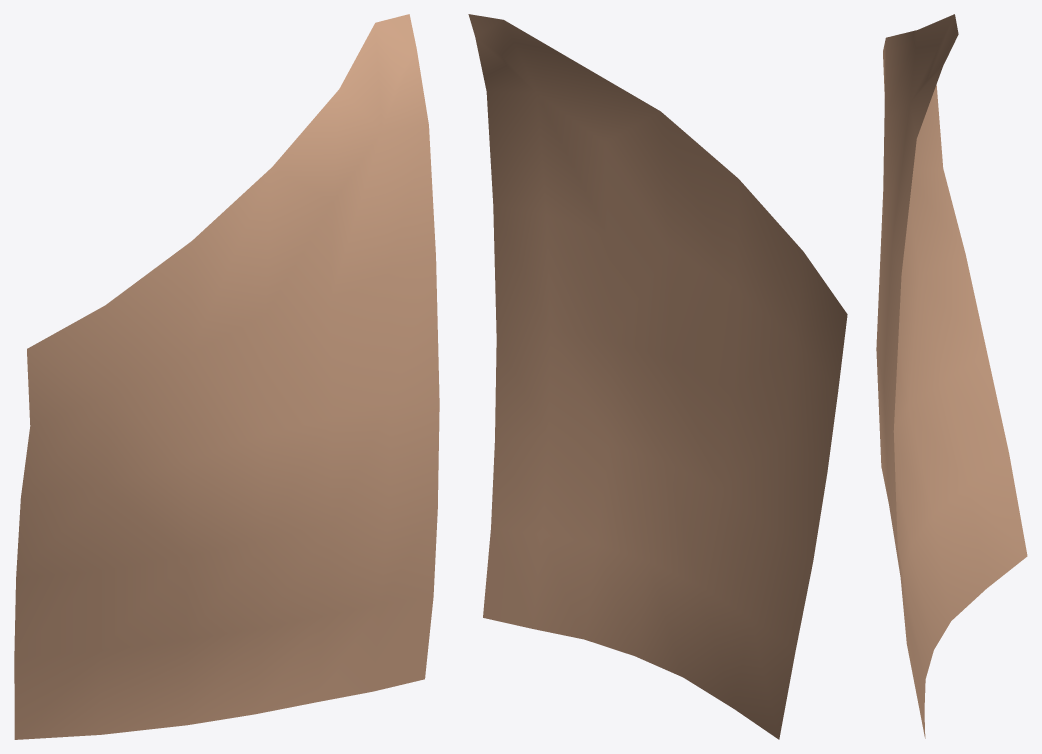
The model's file is epigastric-region-r.glb.
3 views of the same model, side by side, from view 1: azimuth 30°, elevation 25°; view 2: azimuth 150°, elevation 25°; view 3: azimuth 270°, elevation 25° (orthographic). The views are drawn at different scales.
Parts seen in each view (by area): view 1: Epigastric region.r; view 2: Epigastric region.r; view 3: Epigastric region.r.
Boxes of the visible parts, left/top/right/bottom form: Epigastric region.r: left=14, top=14, right=439, bottom=739; Epigastric region.r: left=468, top=14, right=847, bottom=739; Epigastric region.r: left=876, top=14, right=1027, bottom=738.
Size of the model in its own units: 0.0813 by 0.1308 by 0.0251.
